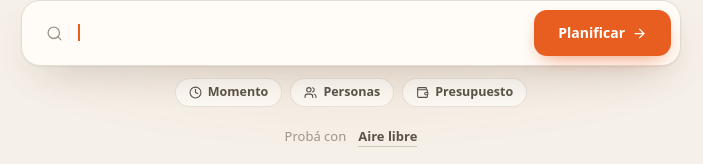
PlanComposer › swaps the starters for the keyboard hint once the field is engaged
Expected: the button "Aire libre" is shown, [358,127,417,147]
Click the text box named "contale a smartplan qué querés hacer".
click(299, 33)  # box [75,20,522,46]
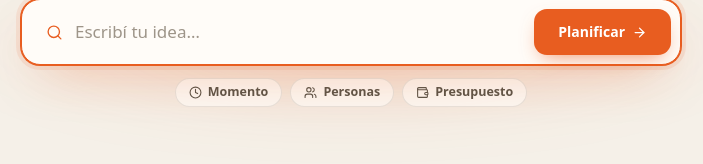
Result: the button "Aire libre" is gone
